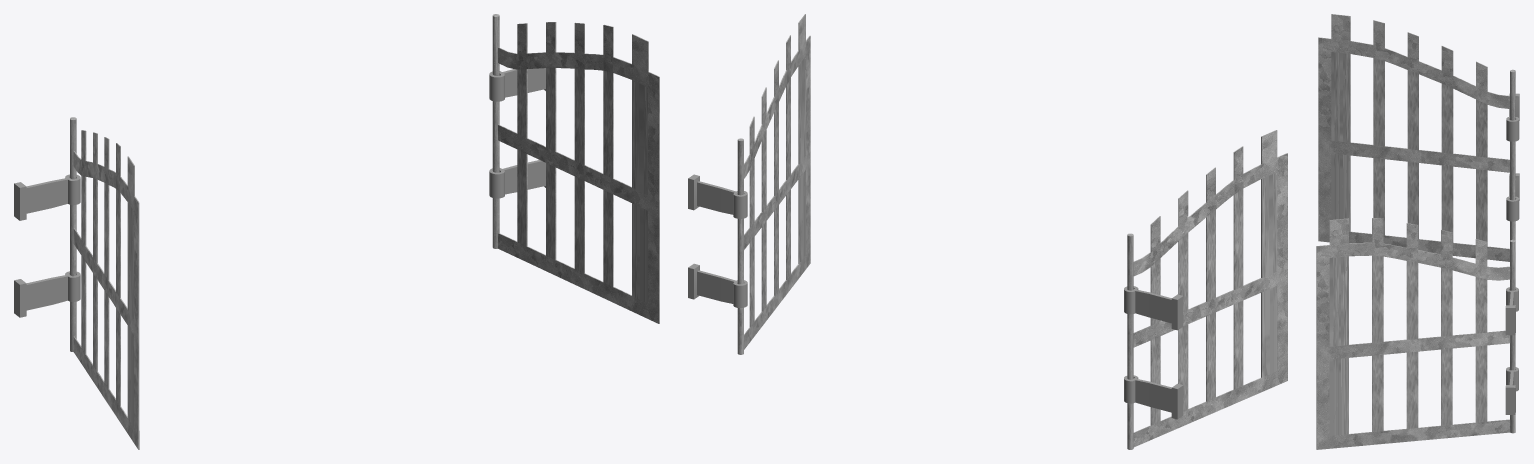
The model's file is Gate.fbx.
3 renders of one model, left to right at view 1: azimuth 30°, elevation 25°; view 2: azimuth 150°, elevation 25°; view 3: azimuth 270°, elevation 25°, orthographic. The views are drawn at different scales.
Parts seen in each view (by area): view 1: right_gate, left_gate, LeftTopGateHandle, LeftBotGateHandle, RightBotGateHandle, RightTopGateHandle; view 2: left_gate, right_gate, LeftBotGateHandle, LeftTopGateHandle, RightTopGateHandle, RightBotGateHandle; view 3: right_gate, left_gate, RightTopGateHandle, RightBotGateHandle, LeftBotGateHandle, LeftTopGateHandle.
Part boxes in pixels (bbox=[...]): right_gate: bbox=[492, 14, 659, 323]; left_gate: bbox=[70, 117, 139, 449]; LeftTopGateHandle: bbox=[14, 174, 80, 220]; LeftBotGateHandle: bbox=[14, 271, 80, 317]; RightBotGateHandle: bbox=[489, 160, 545, 198]; RightTopGateHandle: bbox=[489, 68, 545, 101]; left_gate: bbox=[1127, 130, 1287, 449]; right_gate: bbox=[737, 14, 810, 354]; LeftBotGateHandle: bbox=[1124, 375, 1183, 419]; LeftTopGateHandle: bbox=[1124, 286, 1183, 330]; RightTopGateHandle: bbox=[688, 174, 747, 218]; RightBotGateHandle: bbox=[688, 263, 747, 307]; right_gate: bbox=[1316, 218, 1515, 449]; left_gate: bbox=[1318, 14, 1515, 261]; RightTopGateHandle: bbox=[1505, 287, 1518, 335]; RightBotGateHandle: bbox=[1505, 367, 1518, 414]; LeftBotGateHandle: bbox=[1506, 173, 1519, 221]; LeftTopGateHandle: bbox=[1506, 93, 1519, 141].
Size of the model in its own units: 449 by 223 by 180.
